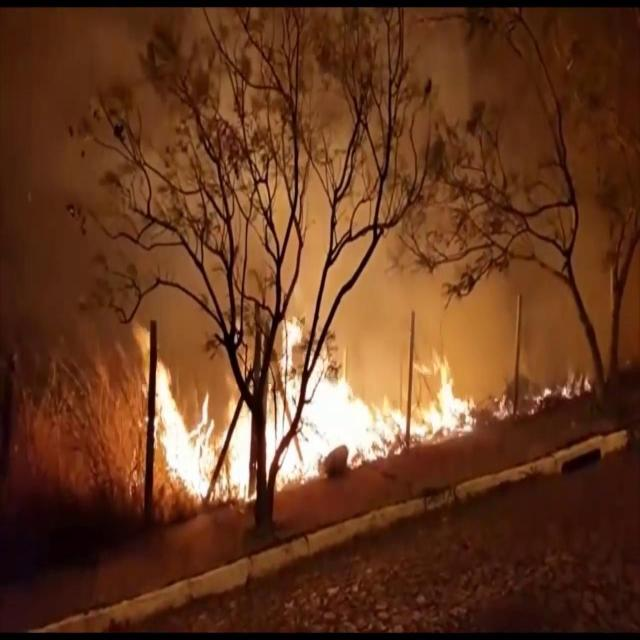Fire: (267, 310, 475, 489), (139, 321, 251, 498), (539, 372, 591, 398)
